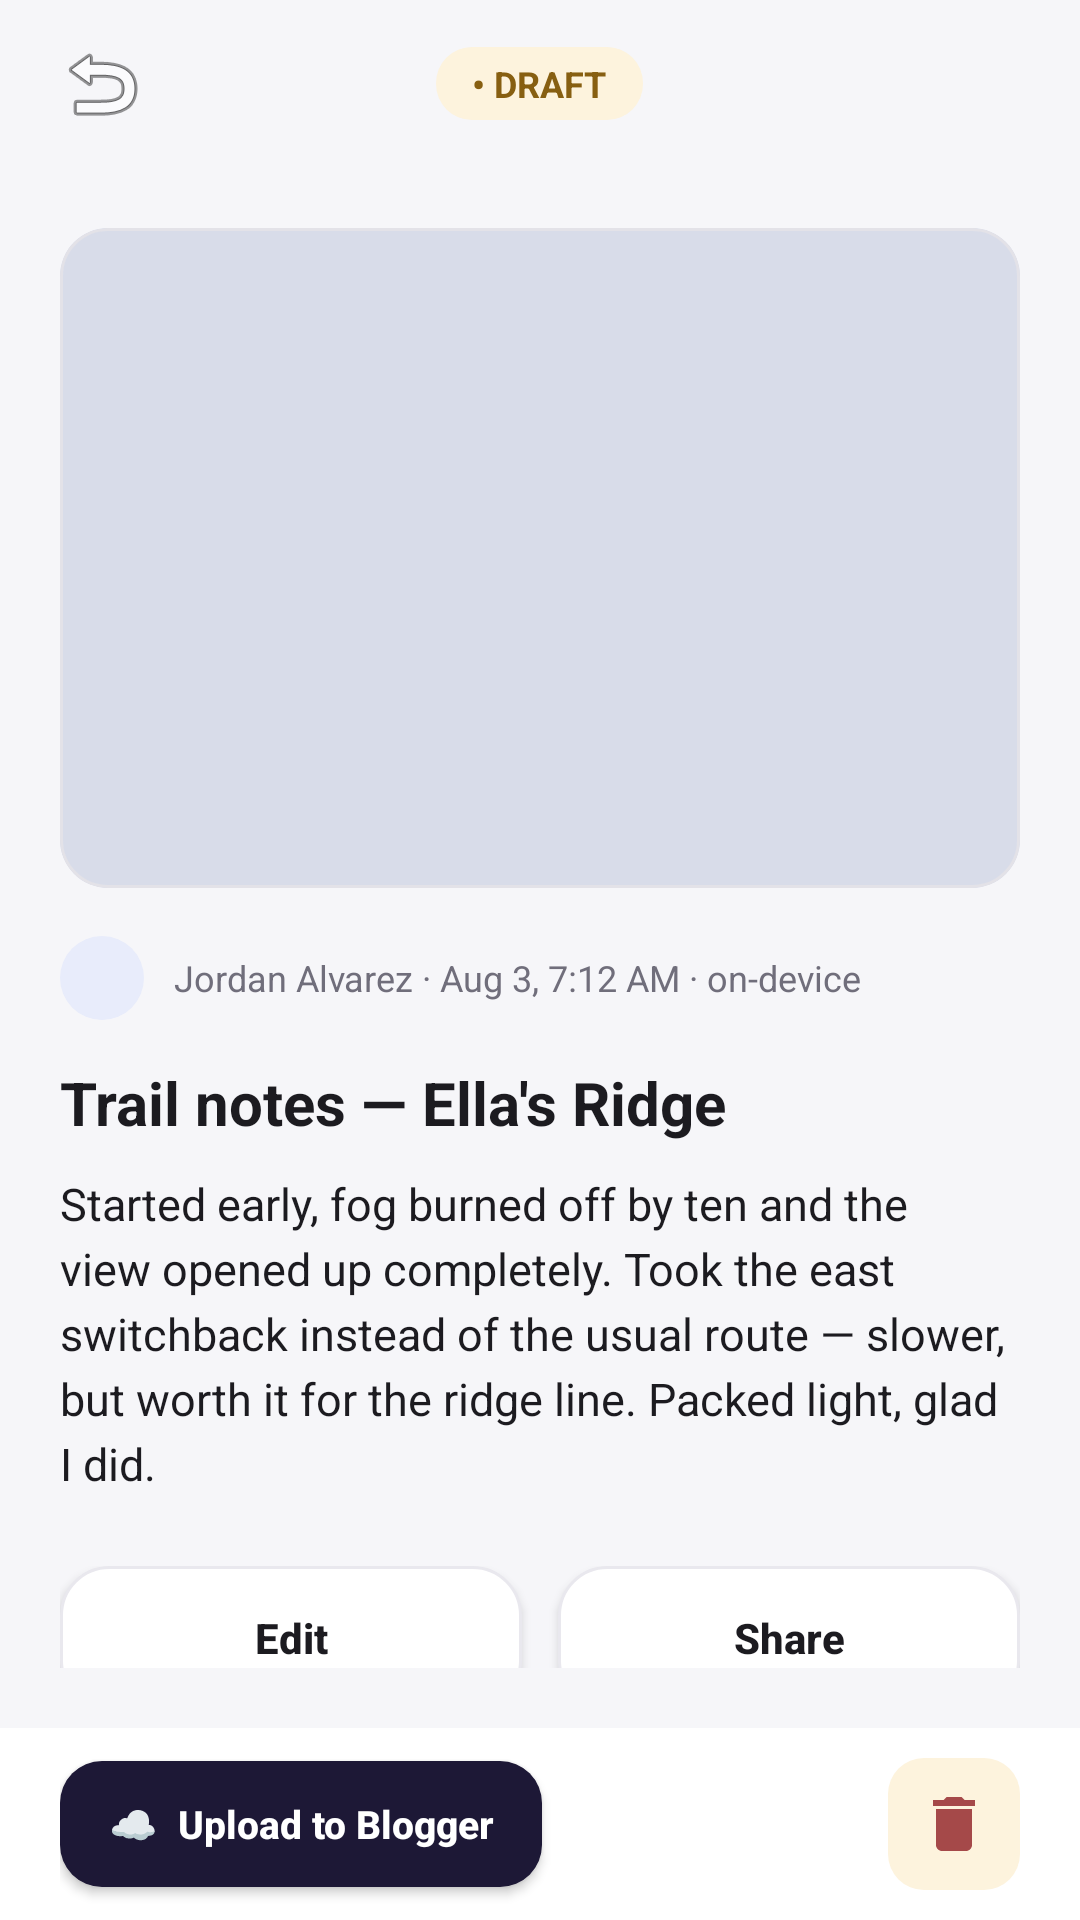

Point at icon controls on the screen. Image size 1080x1920, points as (x,y).
delete: (954,1824)
revert: (103,84)
